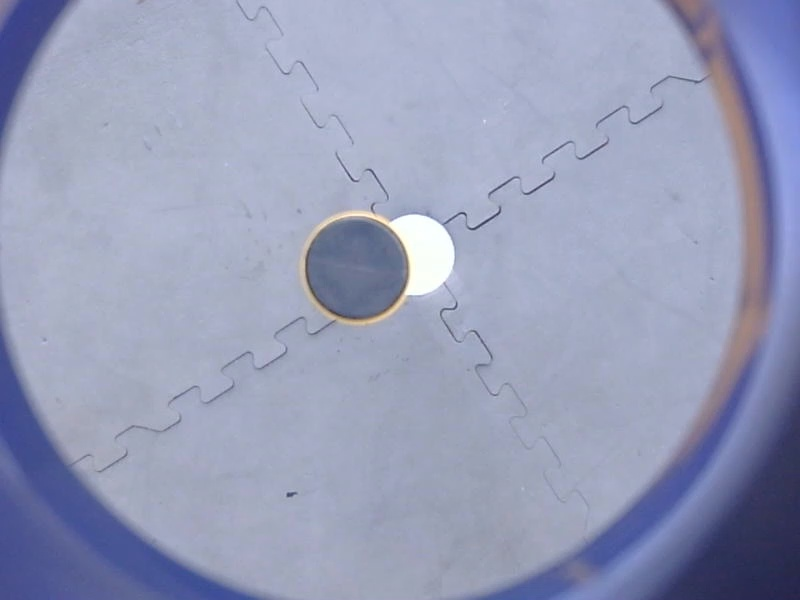tip: (296, 205, 416, 331)
